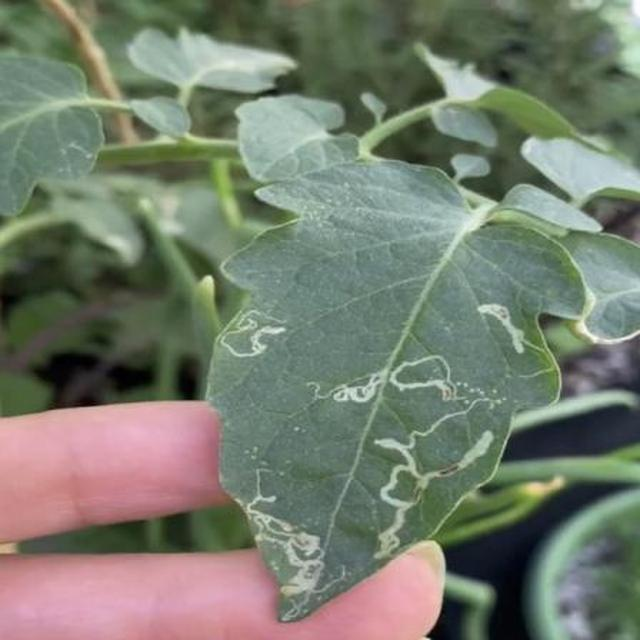Leaf Miner: (287, 234, 640, 640)
